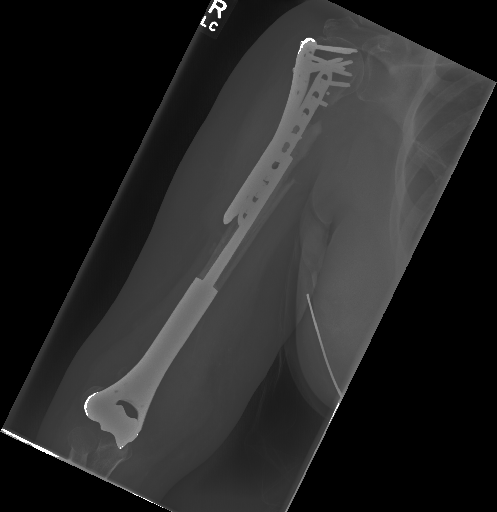implant: (221, 34, 359, 226), (84, 274, 220, 444)
